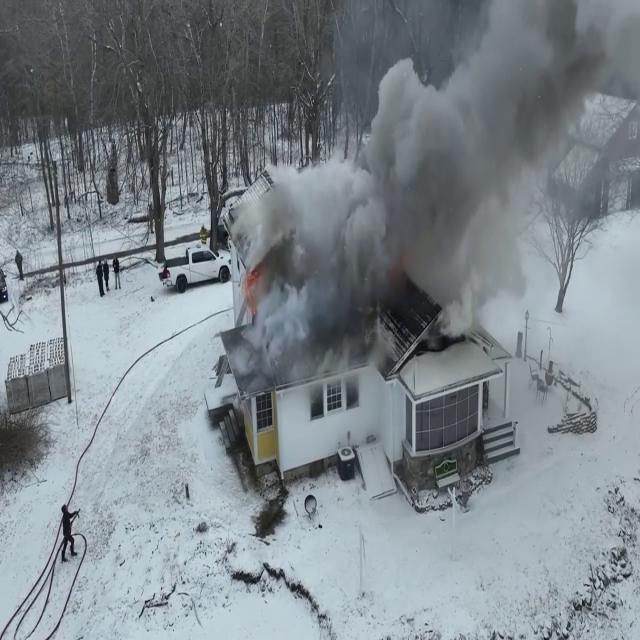Smoke: (236, 1, 574, 352)
